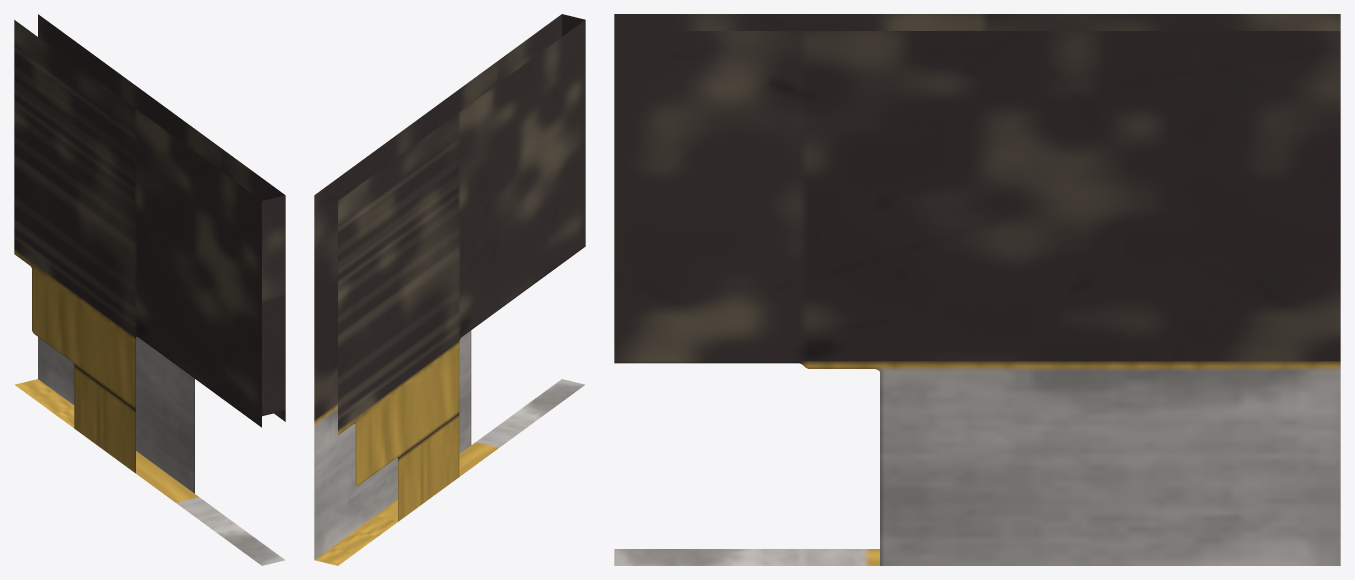
Rendered from section-5.obj.
3 views of the same model, side by side, from view 1: azimuth 30°, elevation 25°; view 2: azimuth 150°, elevation 25°; view 3: azimuth 270°, elevation 25° (orthographic). The views are drawn at different scales.
Bounding box in the file's own units: 0.05 × 0.74 × 0.91.
